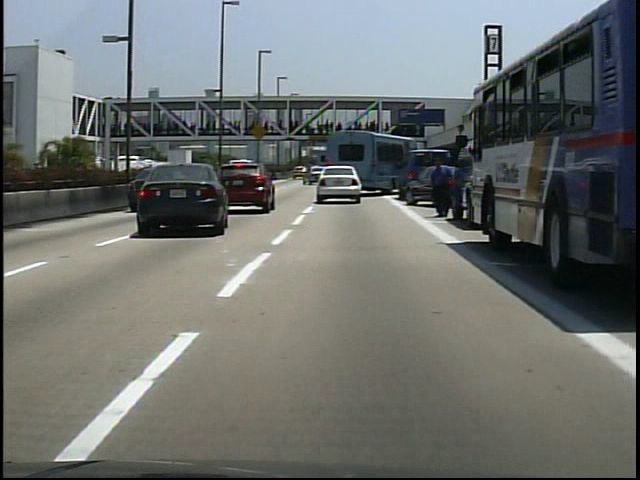person: (427, 155, 453, 223)
